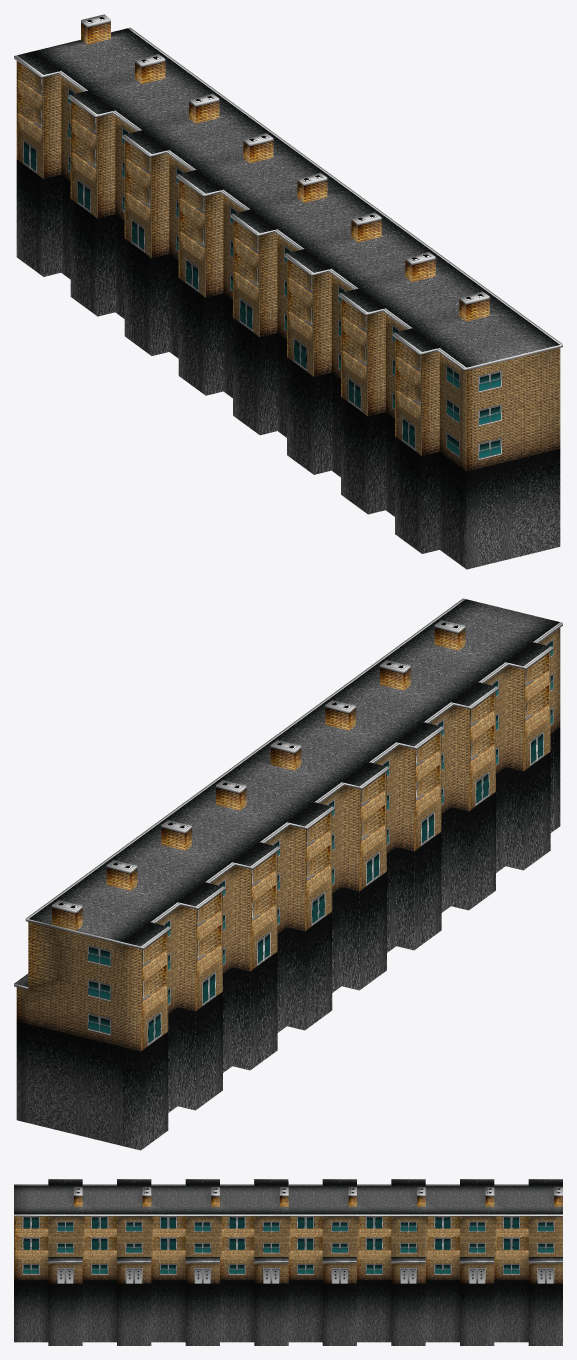
The model's file is maisonet_mod3_4b.fbx.
3 renders of one model, top to bottom at view 1: azimuth 30°, elevation 25°; view 2: azimuth 150°, elevation 25°; view 3: azimuth 270°, elevation 25°, orthographic. The views are drawn at different scales.
Visible parts, largest first — view 1: maisonet_mod3_4b; view 2: maisonet_mod3_4b; view 3: maisonet_mod3_4b.
Boxes of the visible parts, <box> form: maisonet_mod3_4b: <box>14,14,562,569</box>; maisonet_mod3_4b: <box>14,598,562,1150</box>; maisonet_mod3_4b: <box>14,1179,562,1345</box>.
Bounding box in the file's own units: 1231 × 2033 × 7200.
